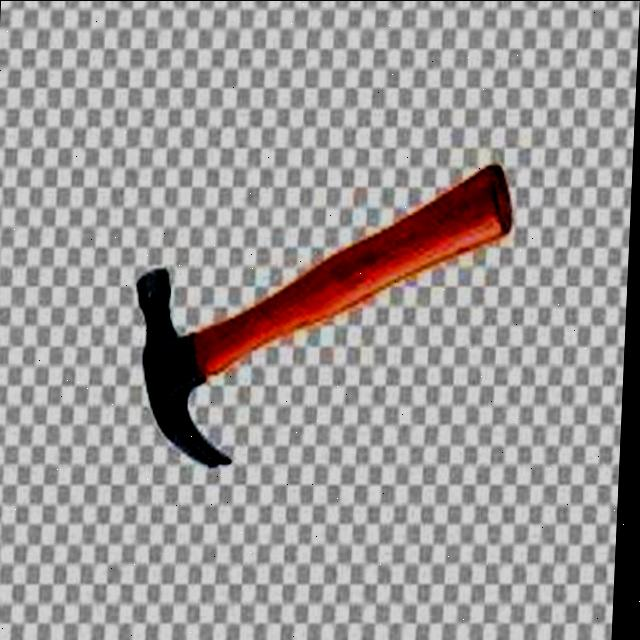hammer: (115, 152, 529, 486)
